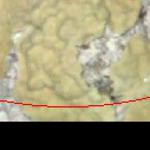alive: (1, 1, 145, 113)
